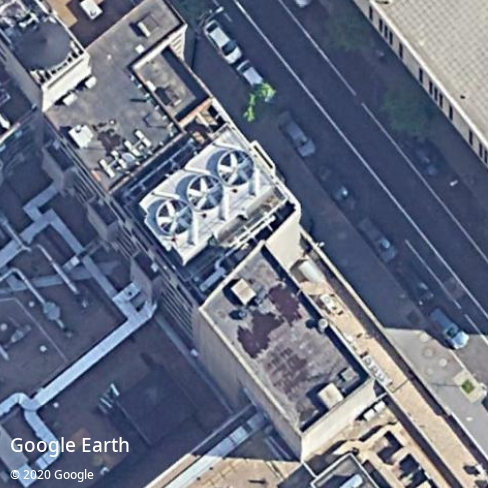Vent: (217, 149, 254, 186), (157, 199, 194, 235), (188, 175, 224, 210)
